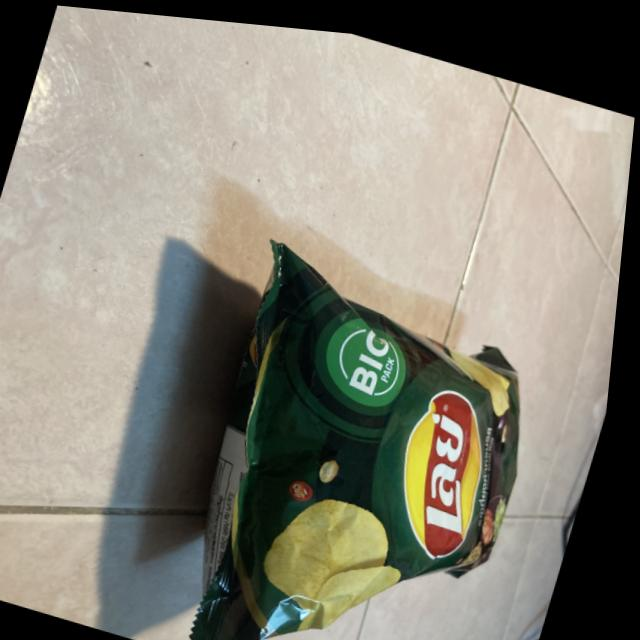Laygreen: (109, 208, 571, 640)
